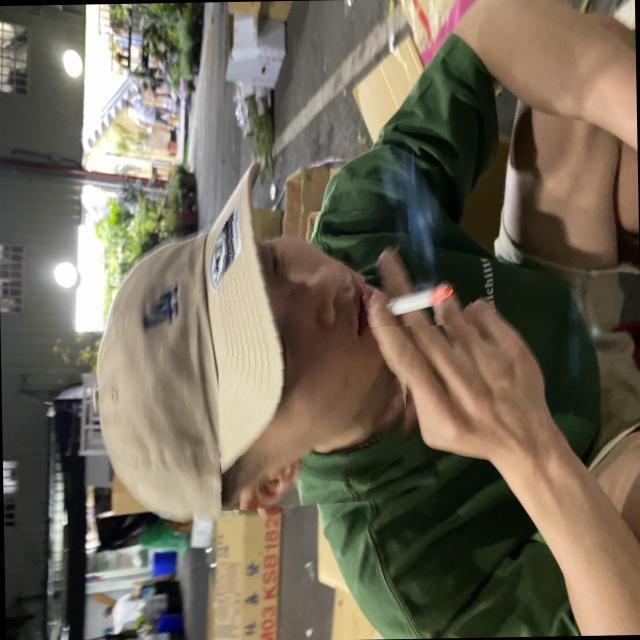cigarette: (364, 274, 475, 326)
